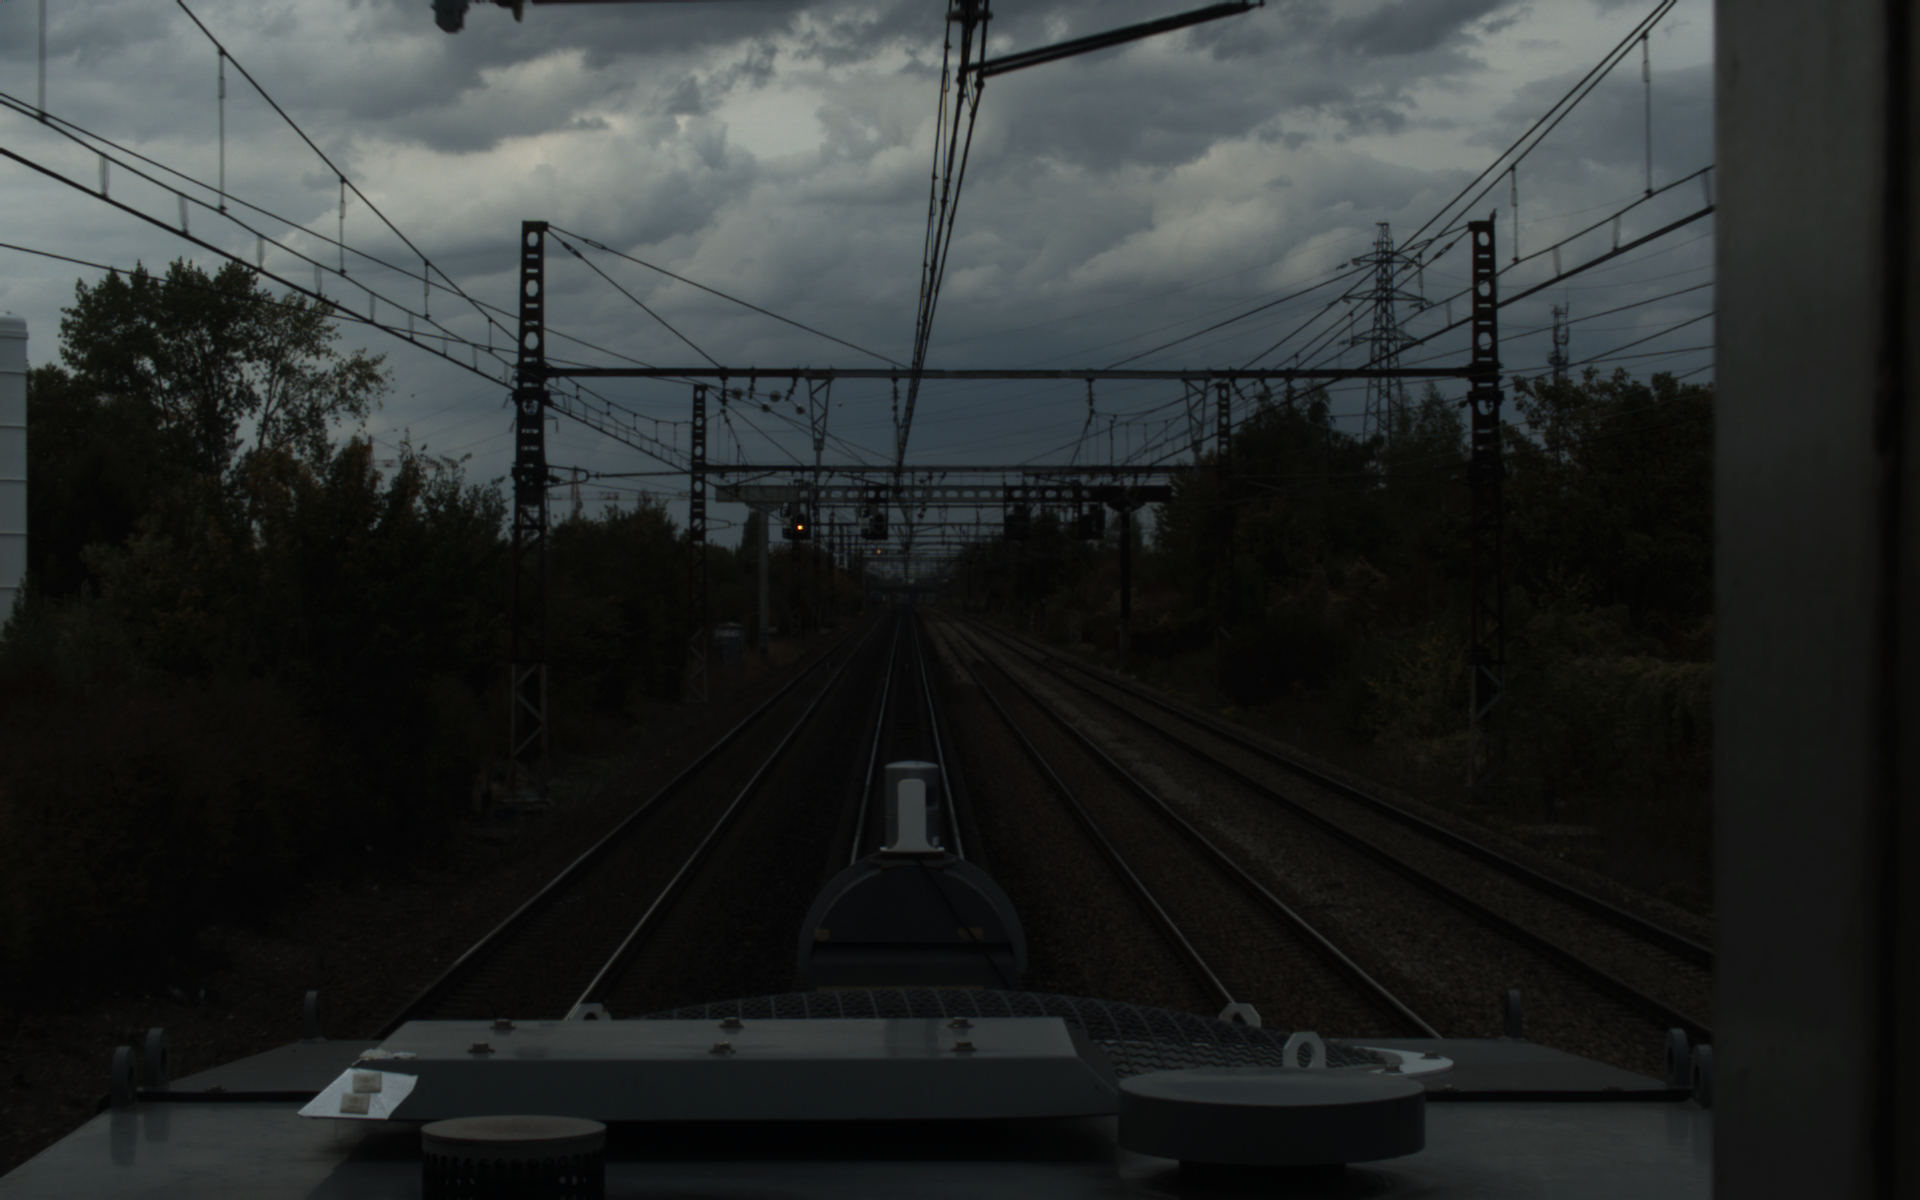Blinking: (871, 512, 887, 534)
Fixed: (792, 512, 807, 534)
